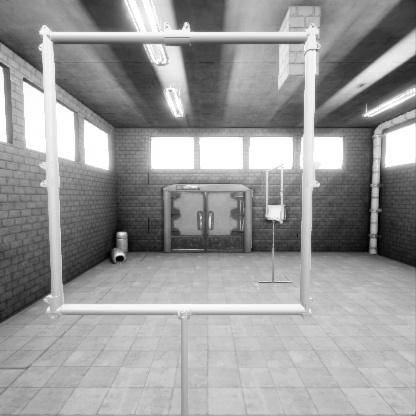gate: (70, 124, 326, 375), (266, 195, 283, 254)
